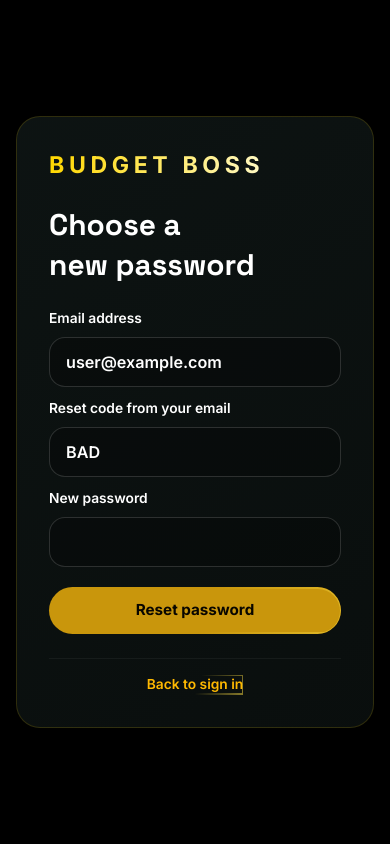
Test: ResetPasswordForm › shows an invalid-code message when the code is rejected
Type "newpassword123" into the password field labelled "New password".
click(195, 542); type("newpassword123")  # box [49, 517, 341, 567]
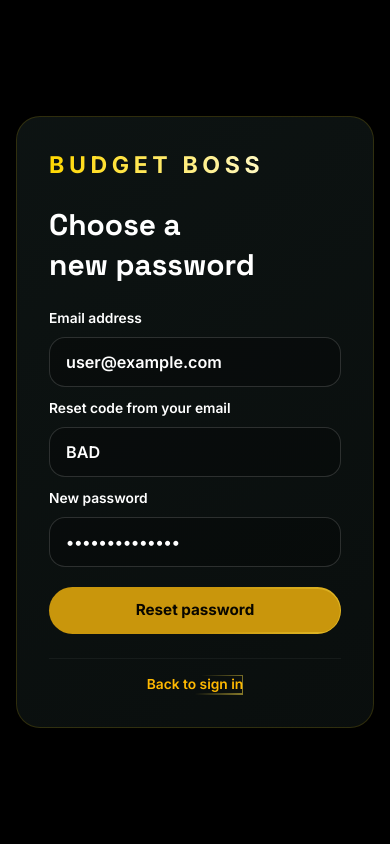
Click the button "Reset password".
click(195, 610)  # box [49, 587, 341, 634]
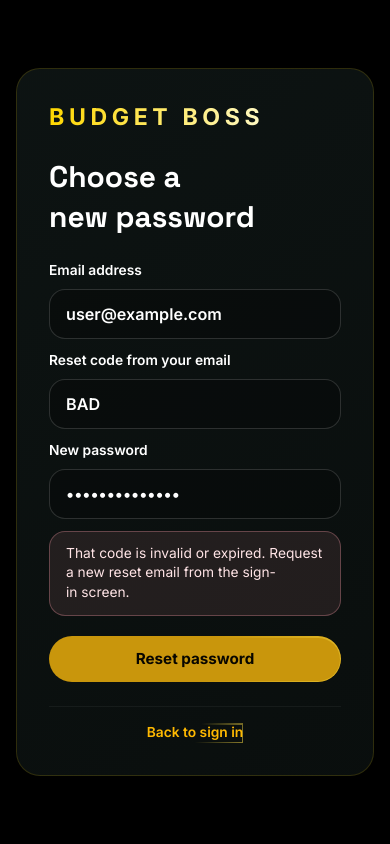
Now the text "invalid or expired" is shown, box [66, 545, 322, 600]
